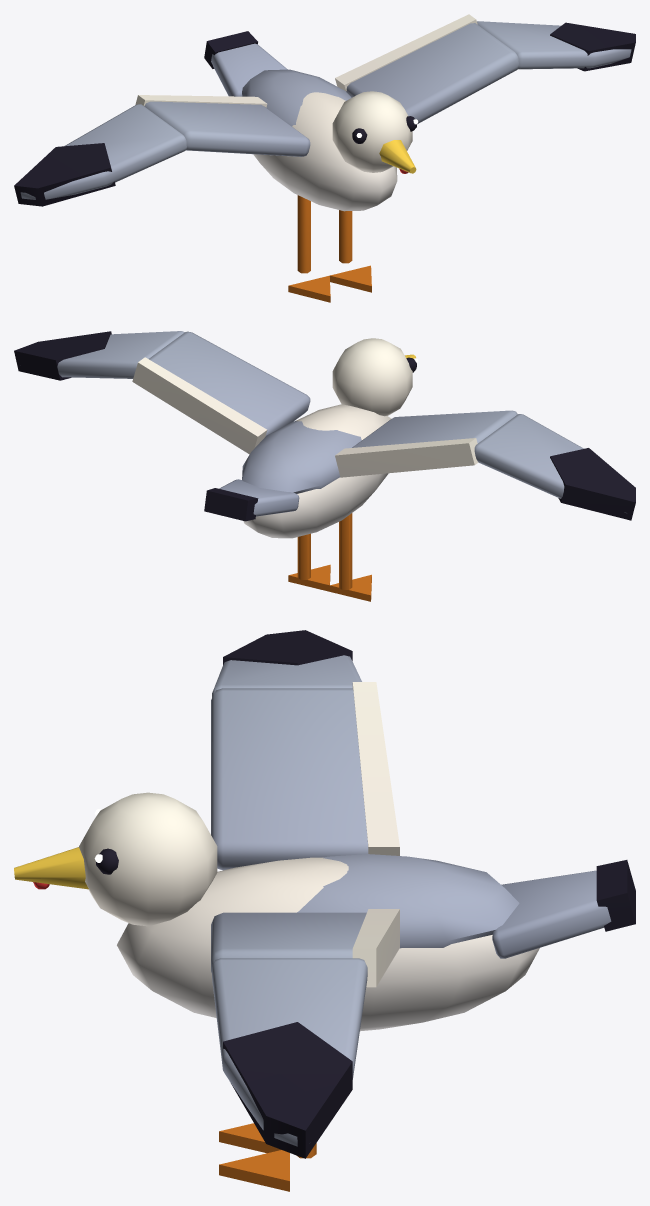
The model's file is gull.glb.
3 views of the same model, one above another, from view 1: azimuth 30°, elevation 25°; view 2: azimuth 150°, elevation 25°; view 3: azimuth 270°, elevation 25° (orthographic). The views are drawn at different scales.
Visible parts, largest first — view 1: Body, WingR, WingL, Head; view 2: Body, WingL, WingR, Head; view 3: Body, WingR, WingL, Head.
Boxes of the visible parts, bbox=[...] form: Body: bbox=[204, 31, 397, 302]; WingR: bbox=[14, 95, 310, 206]; WingL: bbox=[335, 14, 635, 124]; Head: bbox=[332, 91, 418, 173]; Body: bbox=[204, 404, 391, 601]; WingL: bbox=[14, 331, 310, 454]; WingR: bbox=[335, 410, 635, 520]; Head: bbox=[332, 338, 418, 416]; Body: bbox=[117, 854, 635, 1191]; WingR: bbox=[211, 630, 399, 870]; WingL: bbox=[211, 909, 399, 1158]; Head: bbox=[14, 792, 217, 926].
Size of the model in its own units: 1.51 by 0.5045 by 0.7905.
